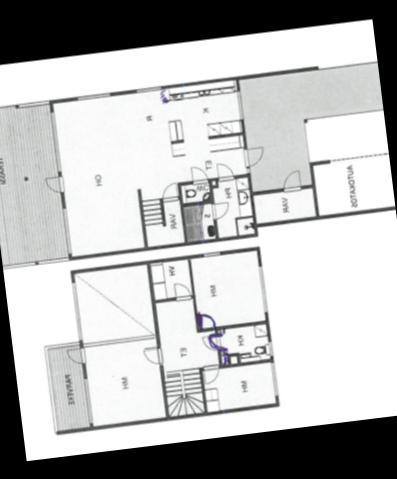door: (186, 163, 210, 188), (197, 360, 222, 384), (140, 344, 164, 368), (170, 279, 194, 302), (194, 308, 217, 332), (158, 178, 180, 203), (279, 170, 302, 193), (41, 171, 64, 194), (213, 160, 235, 183), (241, 145, 263, 167), (208, 200, 231, 220), (63, 344, 86, 364), (198, 332, 221, 351)
window: (46, 104, 66, 176), (68, 276, 86, 346), (255, 260, 269, 314), (58, 202, 72, 256), (80, 374, 94, 426), (72, 87, 113, 104), (267, 358, 281, 400), (231, 85, 244, 121), (131, 82, 165, 94), (264, 337, 276, 358), (241, 165, 250, 175)
